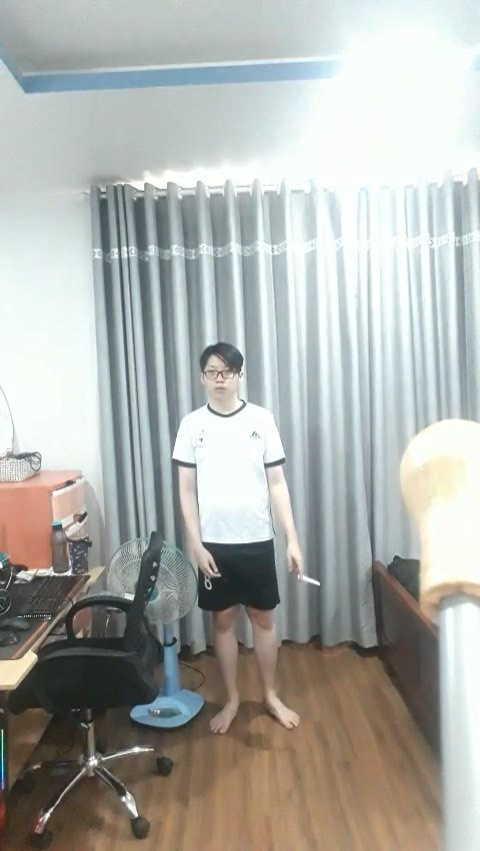cigarette: (299, 573, 323, 588)
person: (165, 336, 312, 743)
